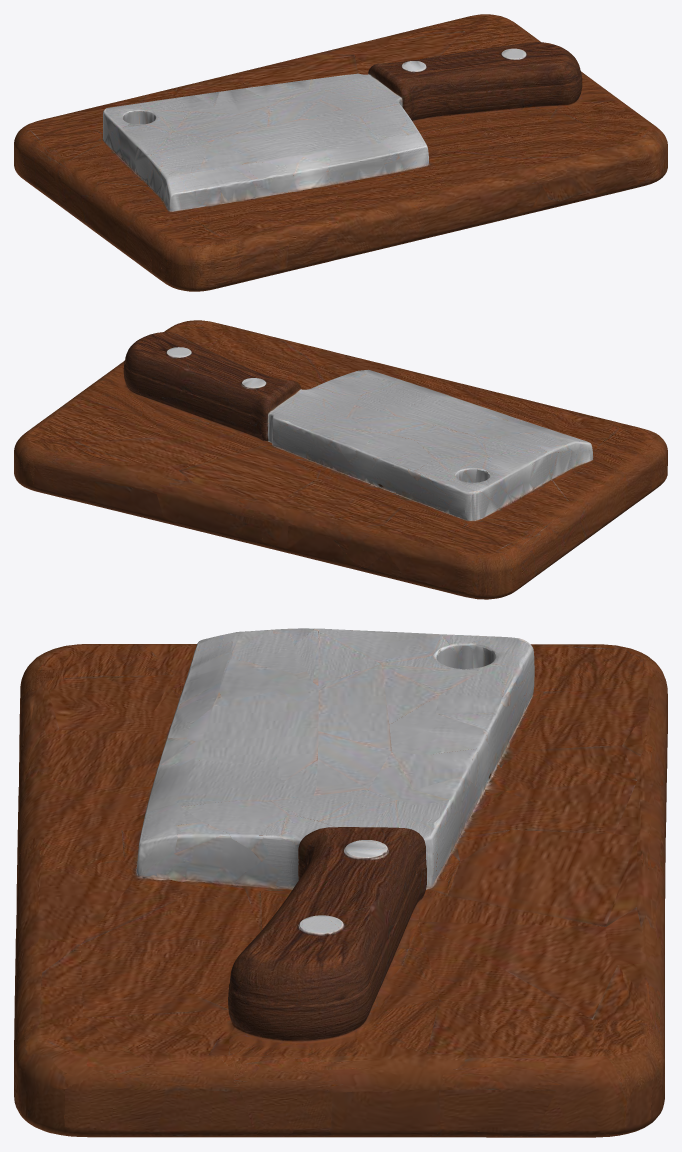
File: cleaver_board.glb
The picture shows the model from 3 angles, top to bottom: view 1: azimuth 30°, elevation 25°; view 2: azimuth 150°, elevation 25°; view 3: azimuth 270°, elevation 25°; orthographic projection. The views are drawn at different scales.
Parts seen in each view (by area): view 1: Mesh_0; view 2: Mesh_0; view 3: Mesh_0.
Part boxes in pixels (x1=…): Mesh_0: x1=14, y1=14, x2=667, y2=291; Mesh_0: x1=14, y1=320, x2=667, y2=599; Mesh_0: x1=14, y1=628, x2=667, y2=1137.
Size of the model in its own units: 1 by 0.16 by 0.6388.
Materials: 1 (1 with a texture image).
